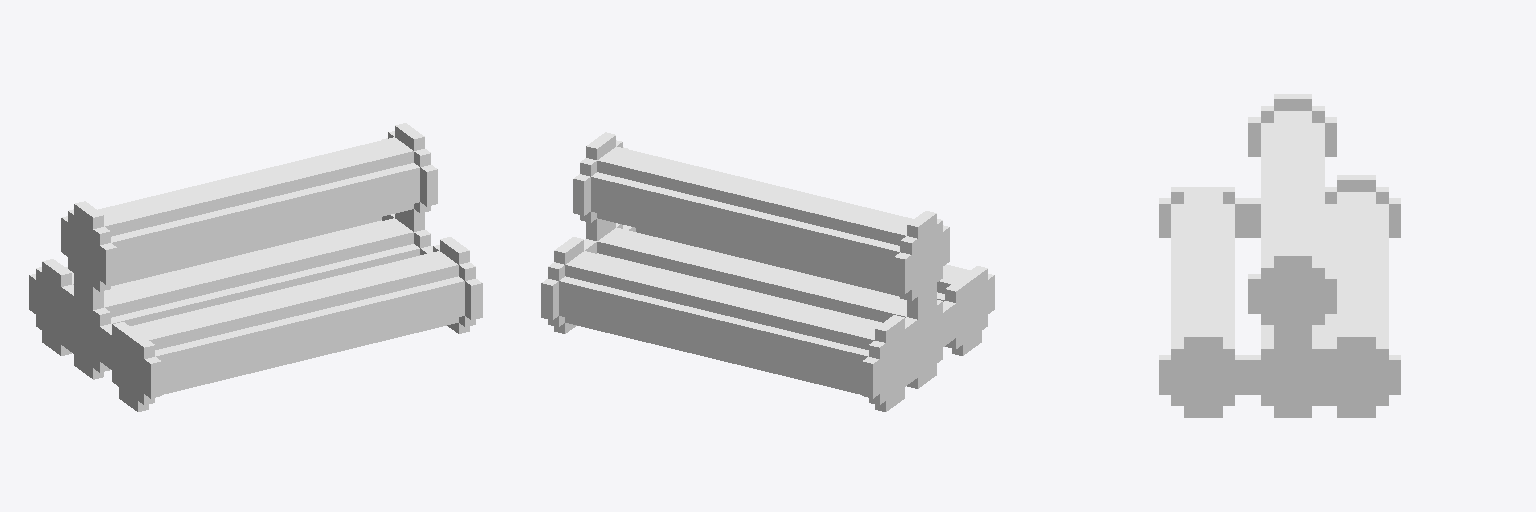
The model's file is pipe.obj.
The picture shows the model from 3 angles: view 1: azimuth 30°, elevation 25°; view 2: azimuth 150°, elevation 25°; view 3: azimuth 270°, elevation 25°; orthographic projection.
Parts seen in each view (by area): view 1: pipe; view 2: pipe; view 3: pipe.
Part boxes in pixels (left/top/right/bottom): pipe: left=29, top=123, right=482, bottom=411; pipe: left=541, top=132, right=994, bottom=411; pipe: left=1159, top=94, right=1400, bottom=417.
Size of the model in its own units: 30 by 14 by 19.